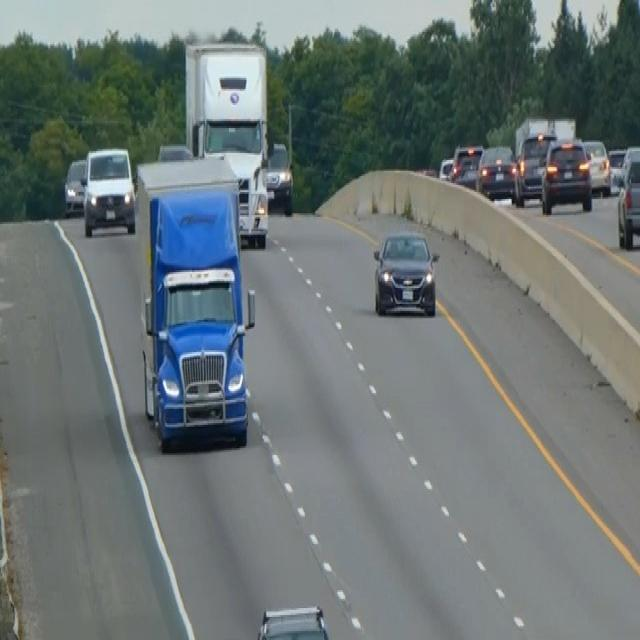car: (371, 228, 439, 316), (540, 135, 593, 213), (513, 128, 555, 204), (476, 142, 517, 201), (616, 151, 639, 249), (266, 139, 294, 215), (582, 137, 611, 195), (450, 142, 482, 188), (63, 156, 86, 217), (607, 146, 627, 192), (438, 155, 453, 181)
jeep: (254, 603, 330, 638)
lorry: (134, 154, 256, 452)
minivan: (81, 144, 136, 236)
